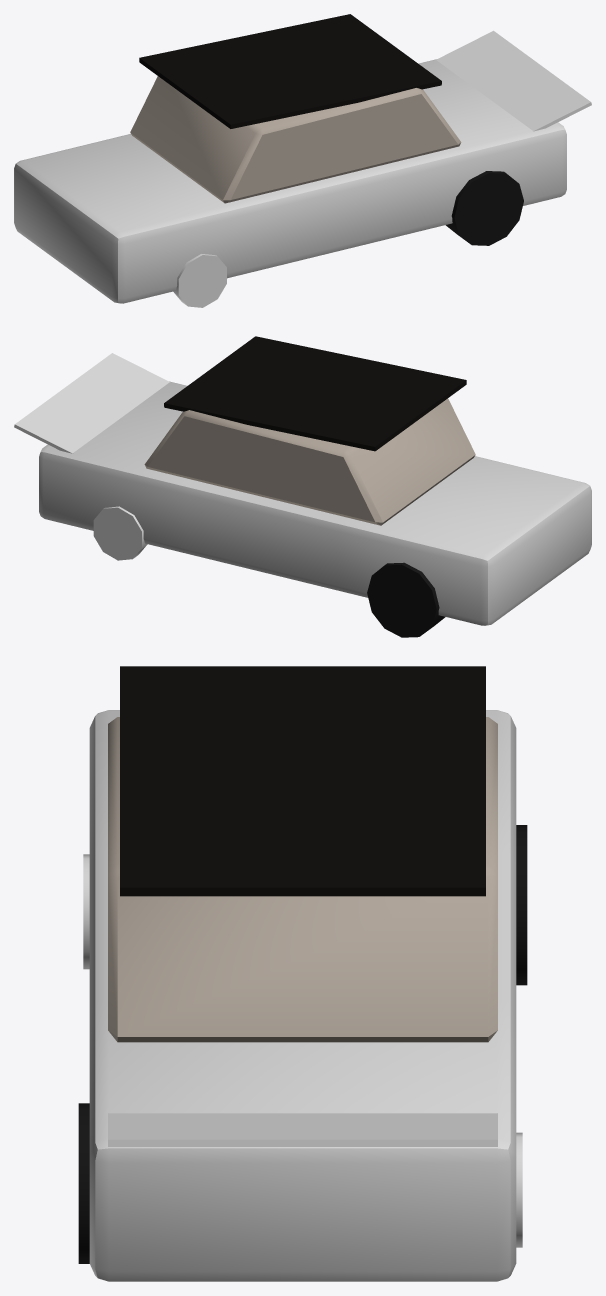
Rendered from wreck-car.glb.
The picture shows the model from 3 angles, top to bottom: view 1: azimuth 30°, elevation 25°; view 2: azimuth 150°, elevation 25°; view 3: azimuth 270°, elevation 25°; orthographic projection. The views are drawn at different scales.
Visible parts, largest first — view 1: Piece_lod0; view 2: Piece_lod0; view 3: Piece_lod0.
Part boxes in pixels (<box>): Piece_lod0: <box>14,14,591,307</box>; Piece_lod0: <box>14,336,591,637</box>; Piece_lod0: <box>78,666,527,1281</box>.
Size of what is drawn, in the model's own units: 4.54 by 1.57 by 1.84.
